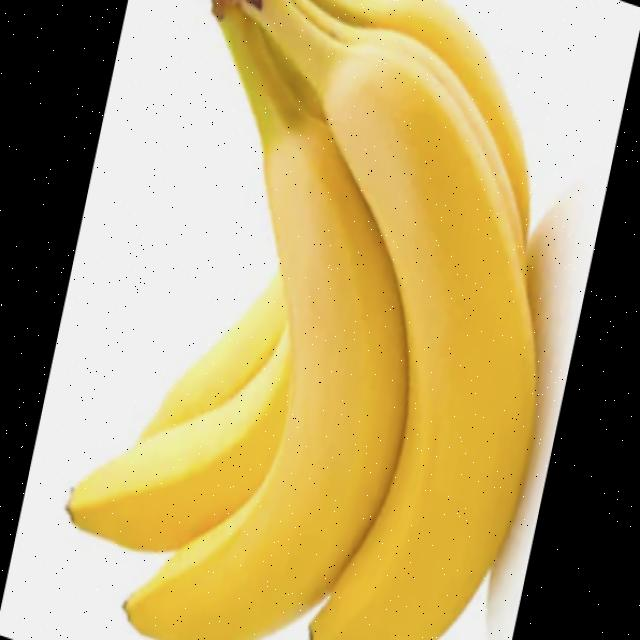god quality banana: (68, 0, 536, 639)
